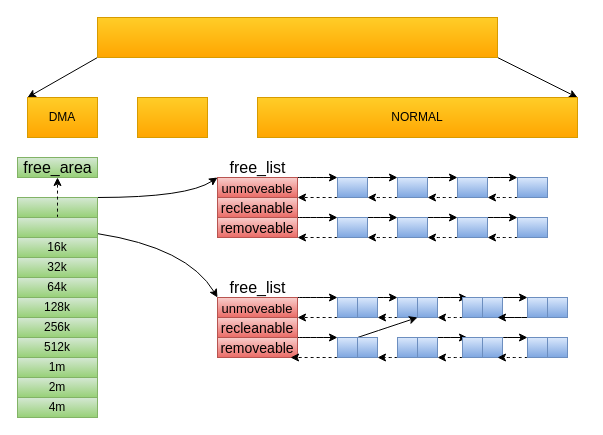
Image size: 603x435. Some labels were removed from this diagram. The shapes that lost their labels are listed below. From the top down, each one's centre as x and y in pixels, then its label:
At (x=297, y=37): "node".
At (x=172, y=117): "DMA32".
At (x=57, y=207): "4k".
At (x=57, y=227): "8k".
